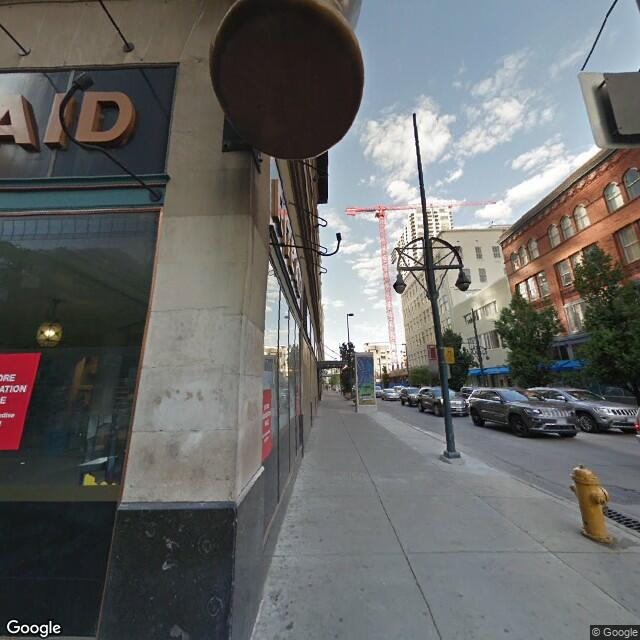fh: (563, 461, 620, 547)
lamp: (395, 111, 479, 456)
